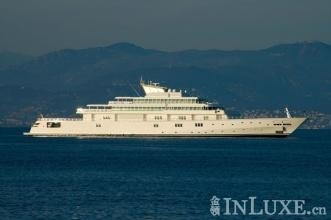yacht: (13, 74, 308, 138)
